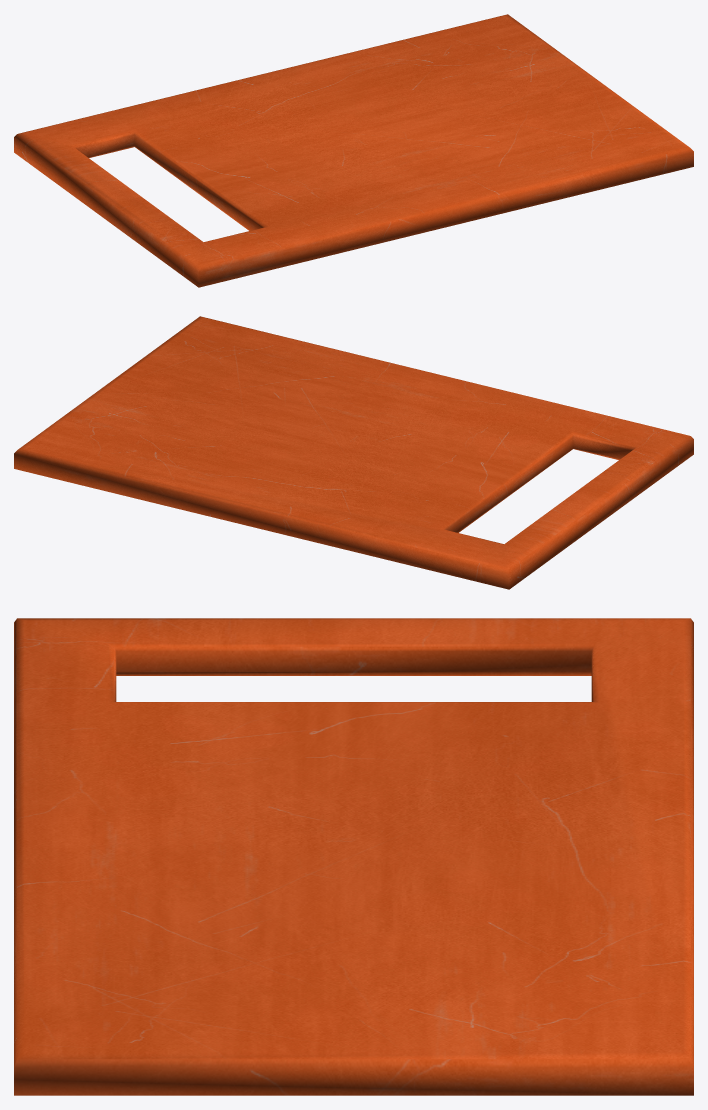
File: mdl_CuttingPlastic.fbx
3 views of the same model, one above another, from view 1: azimuth 30°, elevation 25°; view 2: azimuth 150°, elevation 25°; view 3: azimuth 270°, elevation 25° (orthographic). The views are drawn at different scales.
Visible parts, largest first — view 1: Cube.010; view 2: Cube.010; view 3: Cube.010.
Boxes of the visible parts, x1,y1,x2,y2 form: Cube.010: [14, 14, 693, 287]; Cube.010: [14, 316, 693, 589]; Cube.010: [14, 618, 693, 1095].
Bounding box in the file's own units: 435 × 16.7 × 281.
